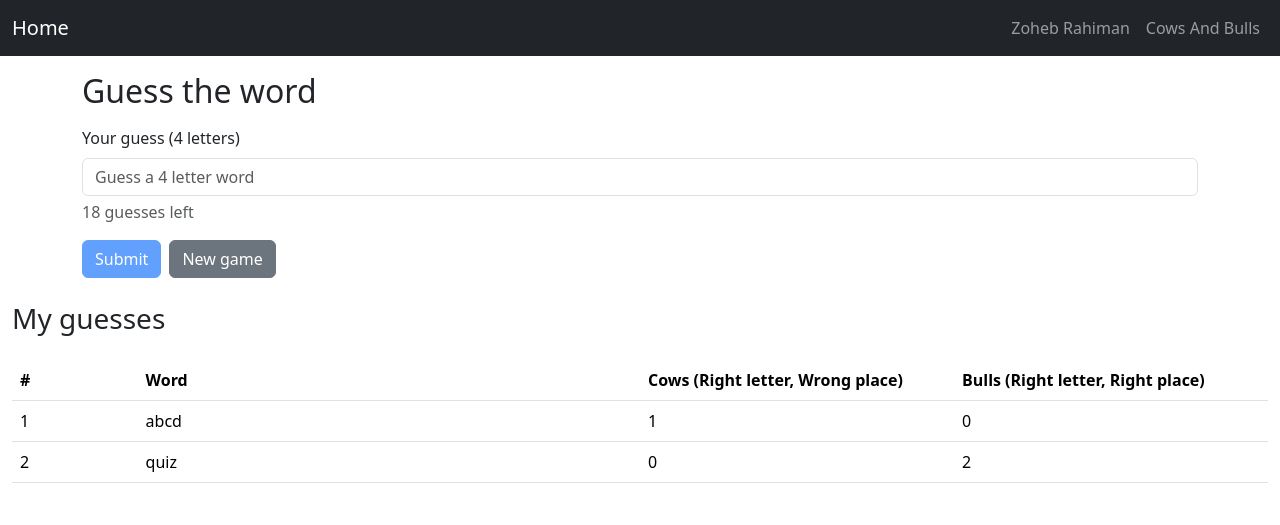
Test case: validation › marks a guess with too short invalid and blocks submit
Type "abc" into the field labelled "Your guess (4 letters)" at x=640, y=177, box [82,158,1198,196]
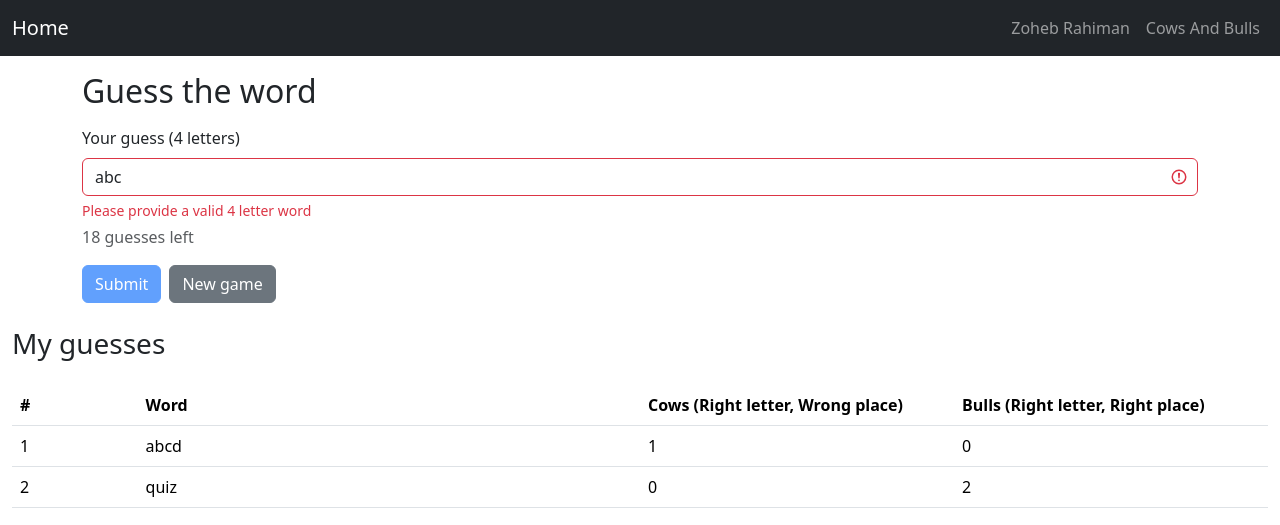
expect the button "Submit" is disabled: met, box [82,265,161,303]
expect the text "Please provide a valid 4 letter word" is shown: met, box [82,201,311,220]
